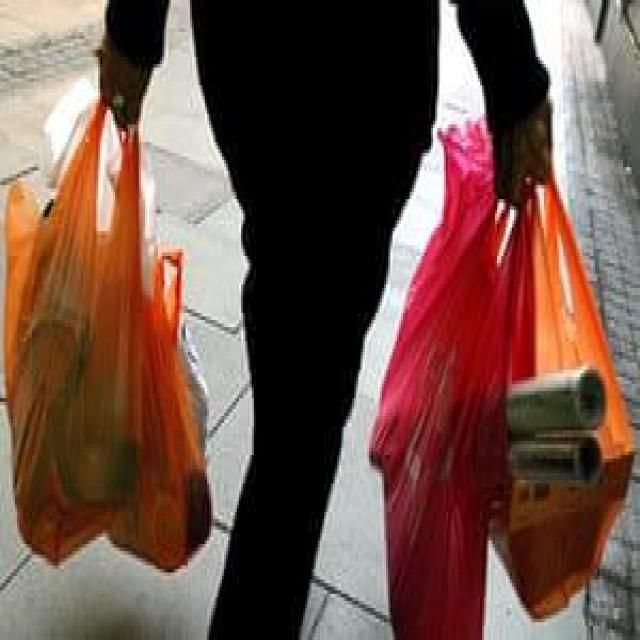plastic_bag: (368, 129, 498, 640), (3, 95, 140, 568), (504, 151, 632, 624), (110, 125, 216, 570)
